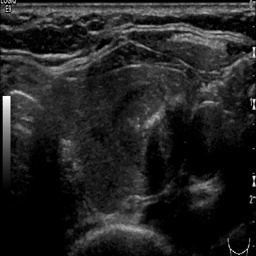mass: (144, 106, 210, 208)
